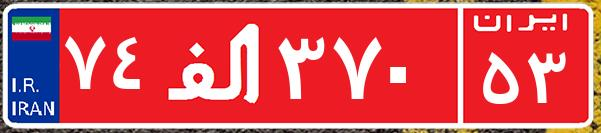0: (385, 28, 445, 110)
3: (273, 28, 330, 110), (525, 38, 570, 115)
4: (110, 28, 158, 105)
5: (475, 38, 525, 113)
7: (330, 28, 385, 110), (57, 26, 110, 107)
الف: (158, 15, 273, 115)
